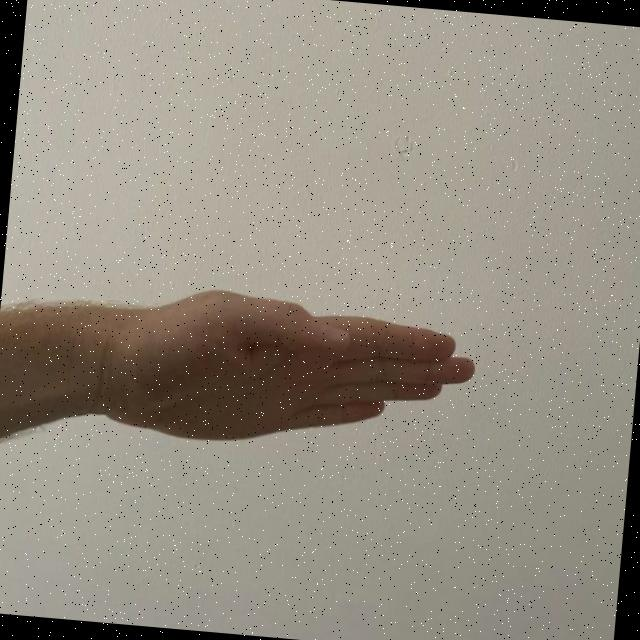papper: (51, 269, 484, 467)
